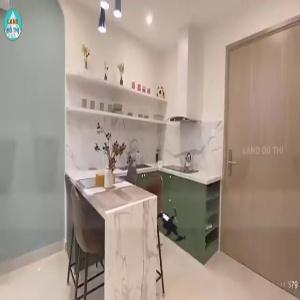drone: (146, 197, 205, 256)
